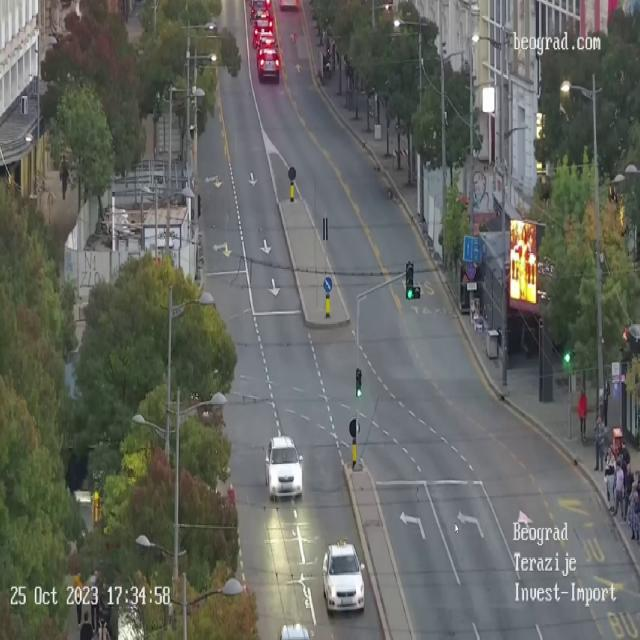car: (322, 538, 365, 613), (264, 435, 303, 501), (252, 3, 277, 36), (254, 28, 278, 61), (259, 48, 279, 82)
